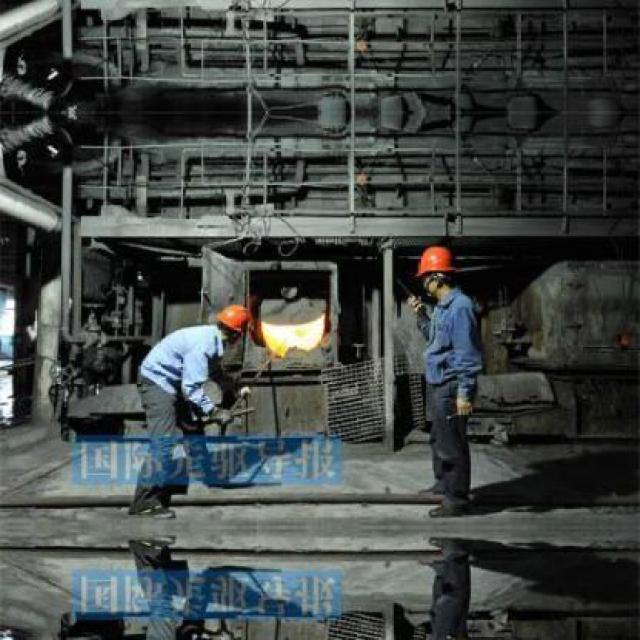helmet: (416, 239, 458, 282), (212, 302, 251, 335)
